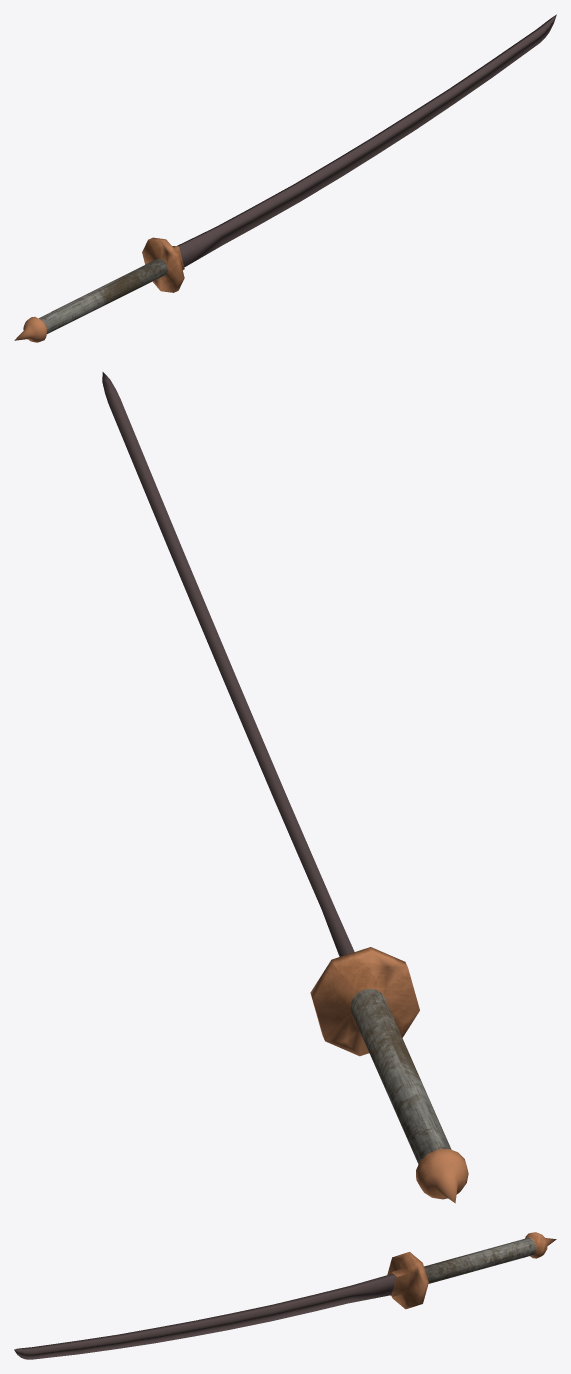
Rendered from Anim_idle_katana_objetos.0032.obj.
The picture shows the model from 3 angles, top to bottom: view 1: azimuth 90°, elevation 25°; view 2: azimuth 150°, elevation 25°; view 3: azimuth 270°, elevation 25°; orthographic projection. The views are drawn at different scales.
Parts seen in each view (by area): view 1: Katana1; view 2: Katana1; view 3: Katana1.
Part boxes in pixels (x1=…): Katana1: x1=14, y1=14, x2=556, y2=342; Katana1: x1=102, y1=372, x2=468, y2=1203; Katana1: x1=14, y1=1232, x2=556, y2=1359.
Size of the model in its own units: 3.65 by 0.9162 by 3.83.
